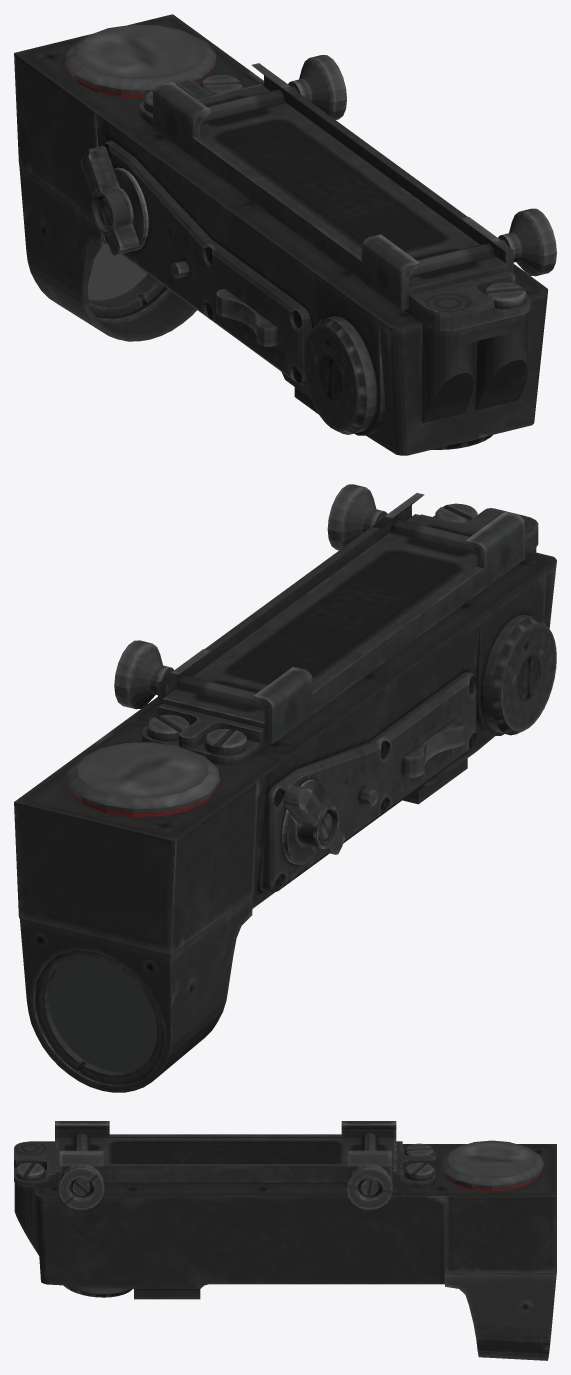
The picture shows the model from 3 angles, top to bottom: view 1: azimuth 30°, elevation 25°; view 2: azimuth 150°, elevation 25°; view 3: azimuth 270°, elevation 25°; orthographic projection. The views are drawn at different scales.
Visible parts, largest first — view 1: TW_591c4efa86f7741030027726_mode3_PZ_Import; view 2: TW_591c4efa86f7741030027726_mode3_PZ_Import; view 3: TW_591c4efa86f7741030027726_mode3_PZ_Import.
Part boxes in pixels (x1=…): TW_591c4efa86f7741030027726_mode3_PZ_Import: x1=14, y1=14, x2=556, y2=455; TW_591c4efa86f7741030027726_mode3_PZ_Import: x1=14, y1=484, x2=556, y2=1092; TW_591c4efa86f7741030027726_mode3_PZ_Import: x1=14, y1=1121, x2=556, y2=1360.
Bounding box in the file's own units: 0.0258 × 0.0838 × 0.0376.
Materials: 1 (1 with a texture image).
